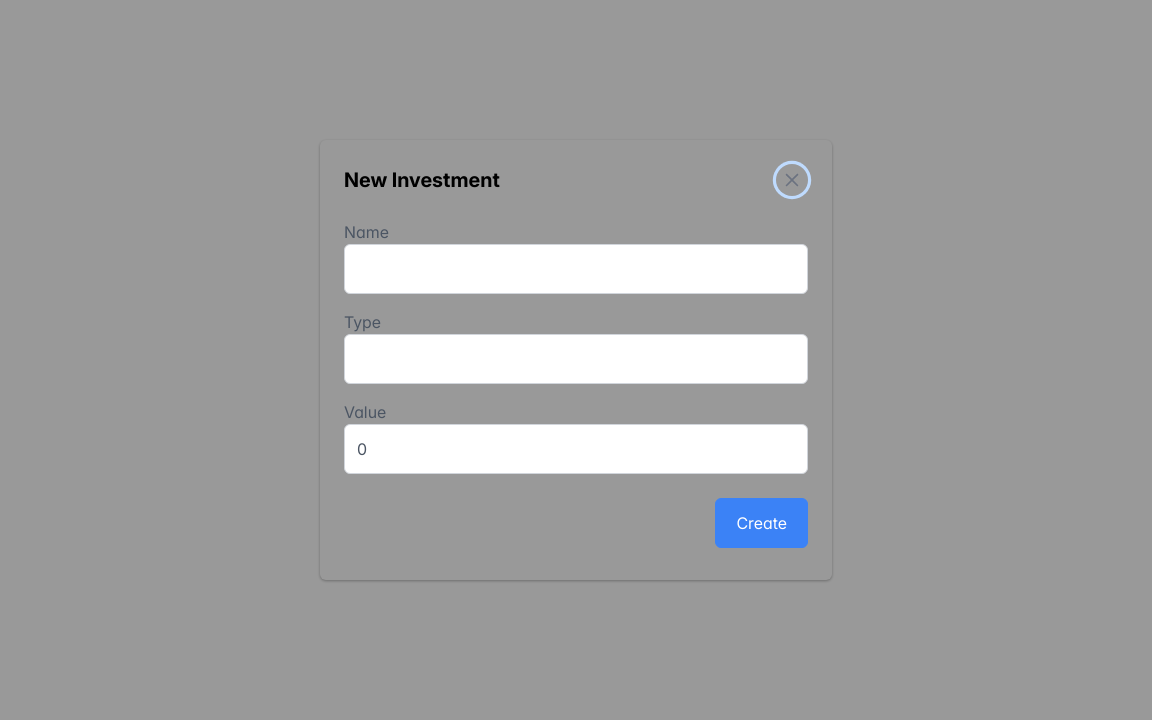
it: NewInvestmentDialog › when dialog is visible › shows an the success toast when form is successfully submited
In the field labelled "Name": (576, 269) [344, 244, 808, 294], type "aaa"
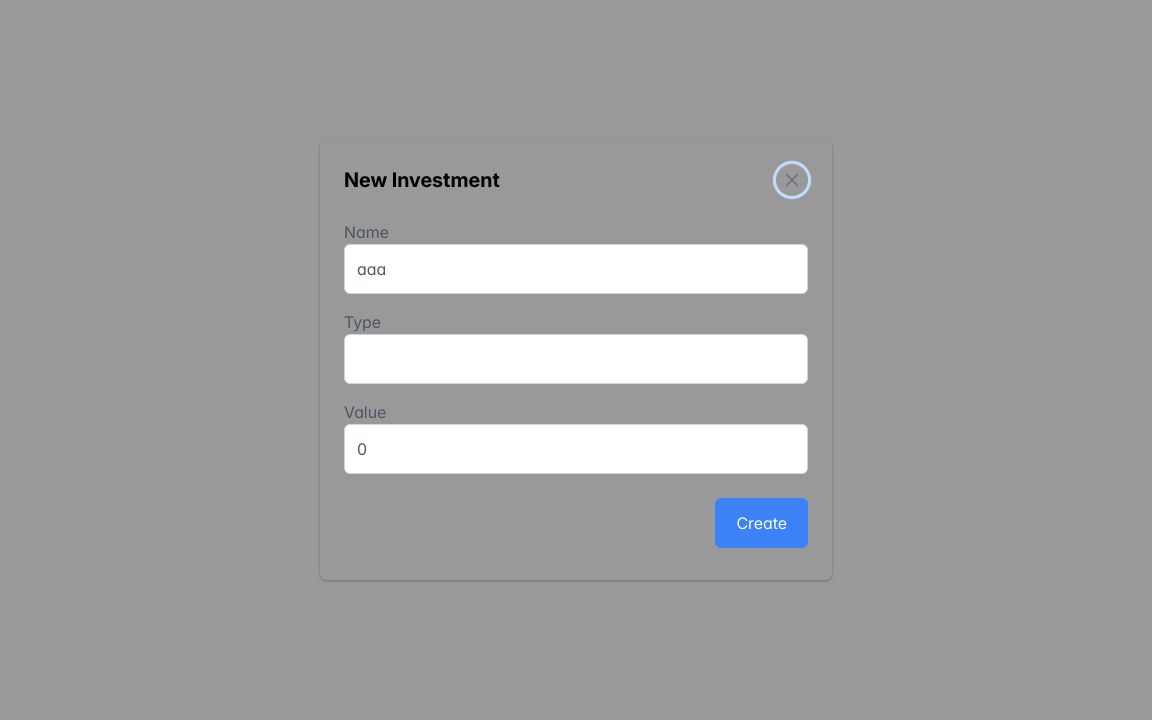
In the field labelled "Type": (576, 359) [344, 334, 808, 384], type "Test Type"
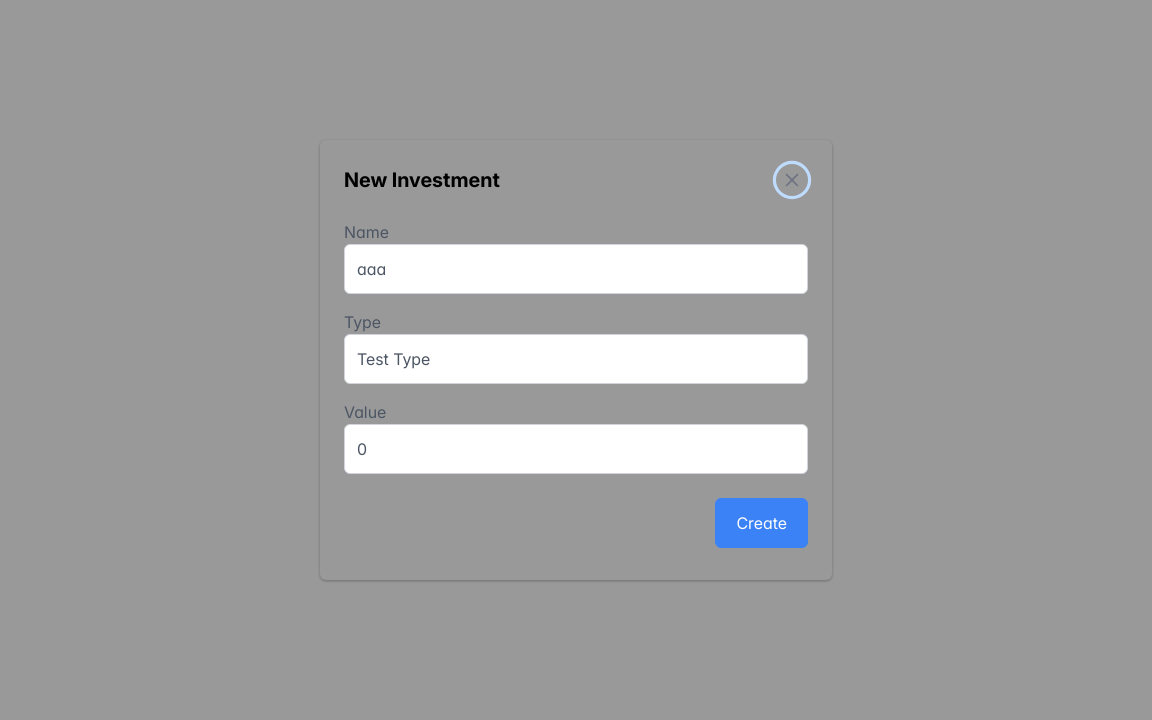
Replace the text in the field labelled "Value" with "2": (576, 449) [344, 424, 808, 474]
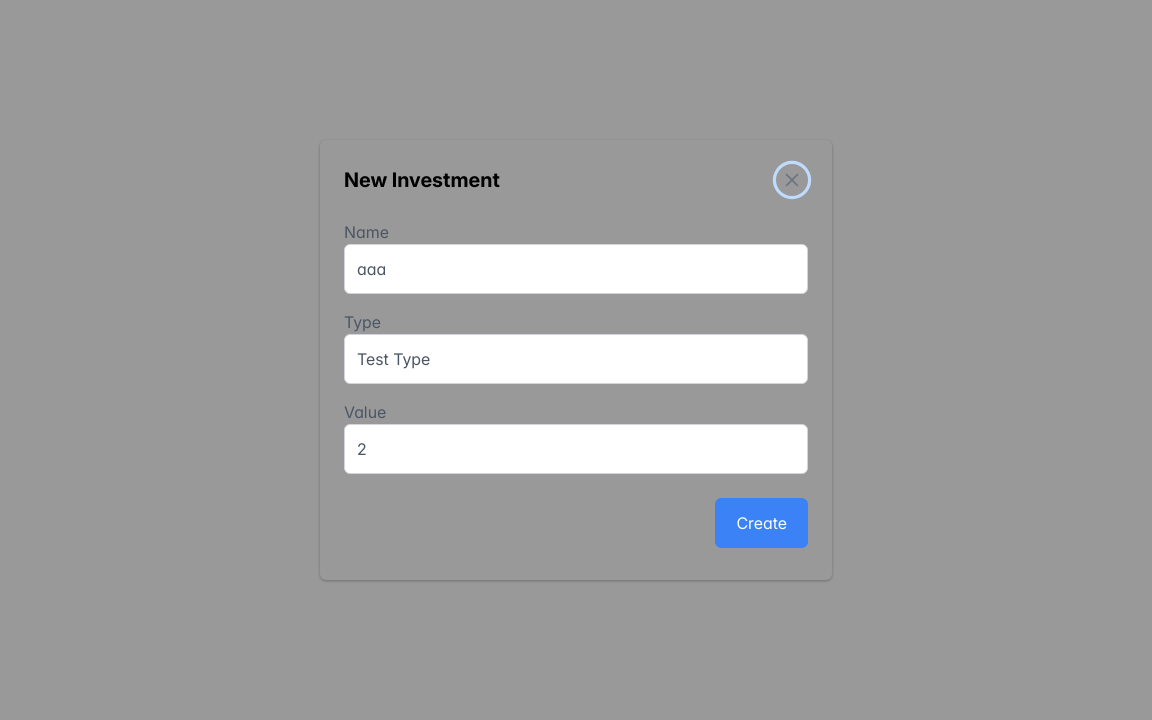
Click the button "Create": (762, 523) [715, 498, 808, 548]
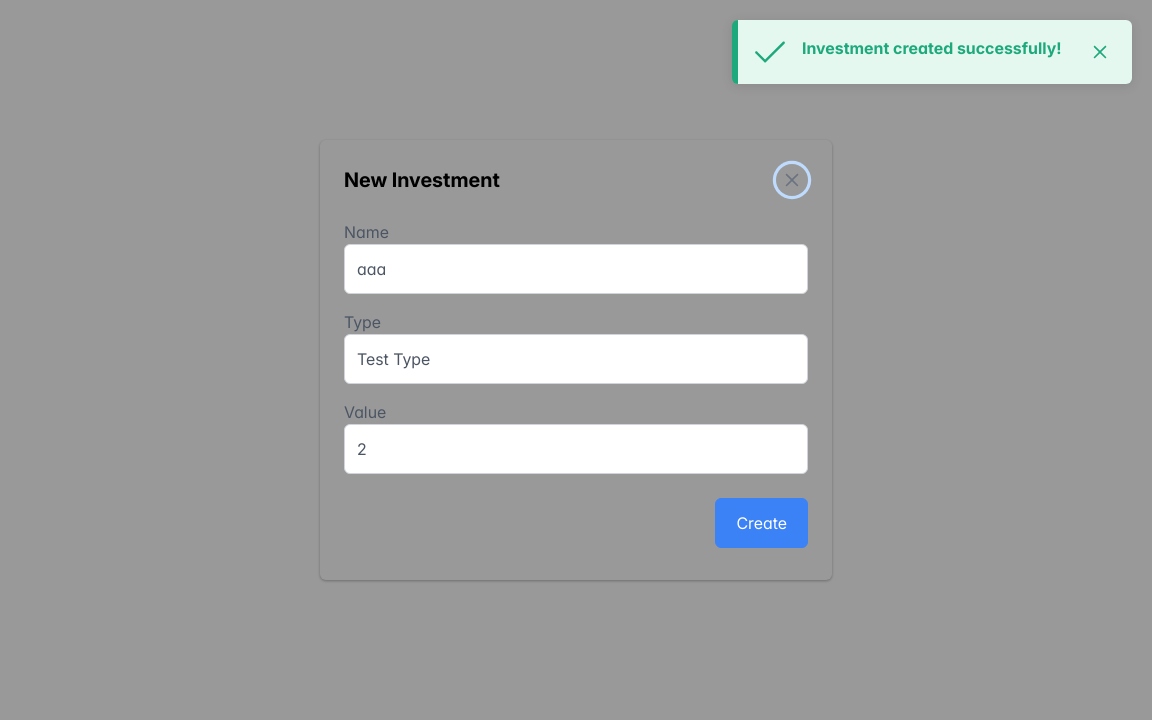
expect the text "Investment created successfully!" is shown: met, box [802, 38, 1062, 58]
